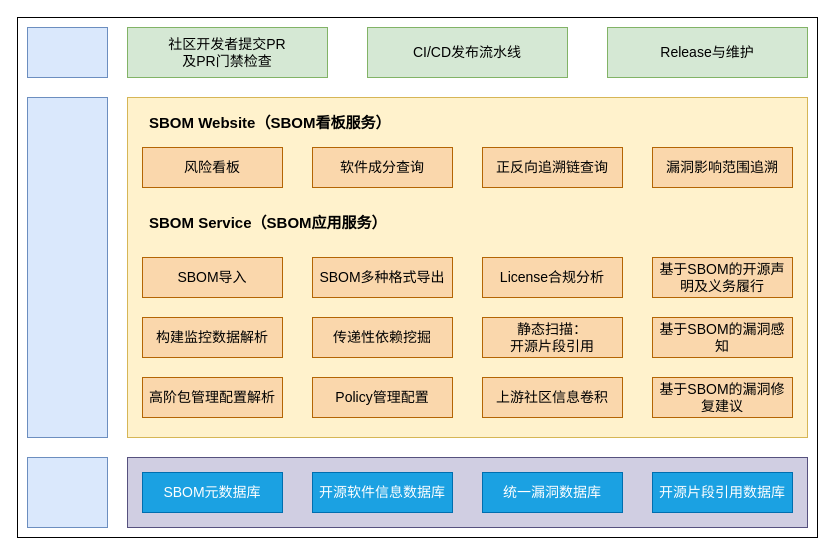
Image size: 835x555. Some labels were removed from this diagram. Each missing label, with the box of its shape:
作业层: (26, 26, 108, 78)
数据层: (26, 456, 108, 528)
服务层: (26, 96, 108, 438)
